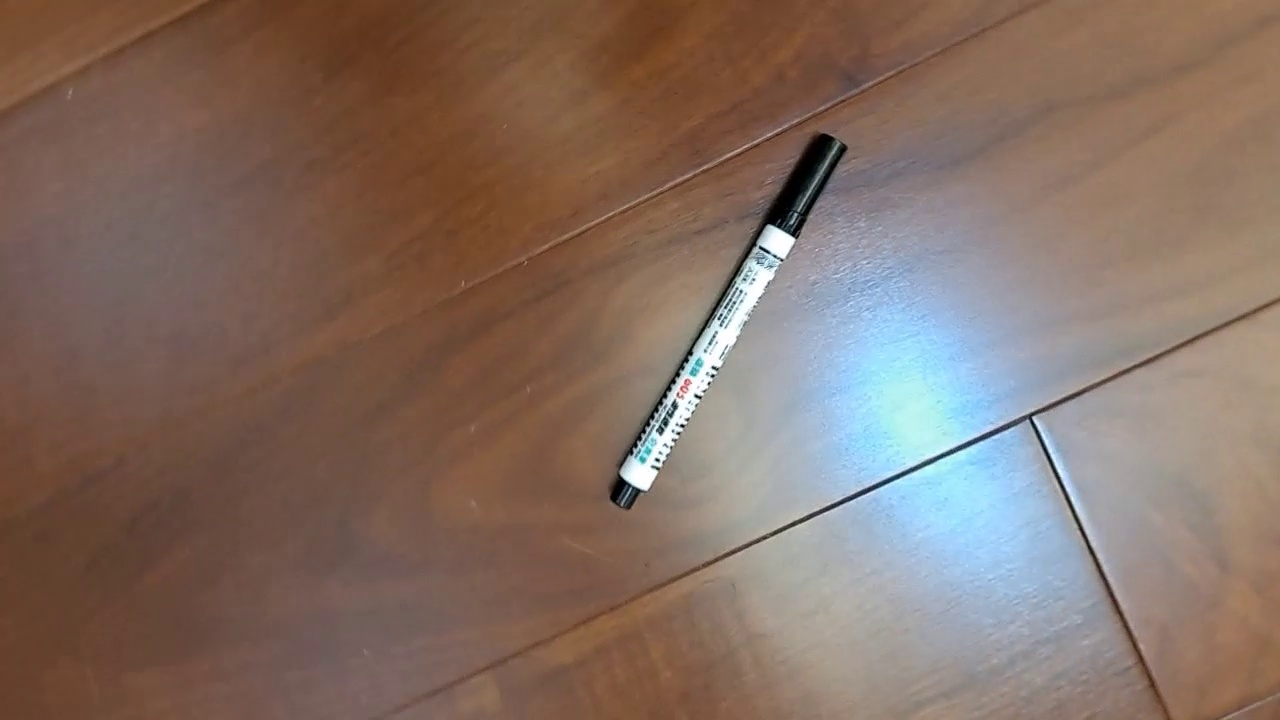pen: (608, 130, 850, 512)
